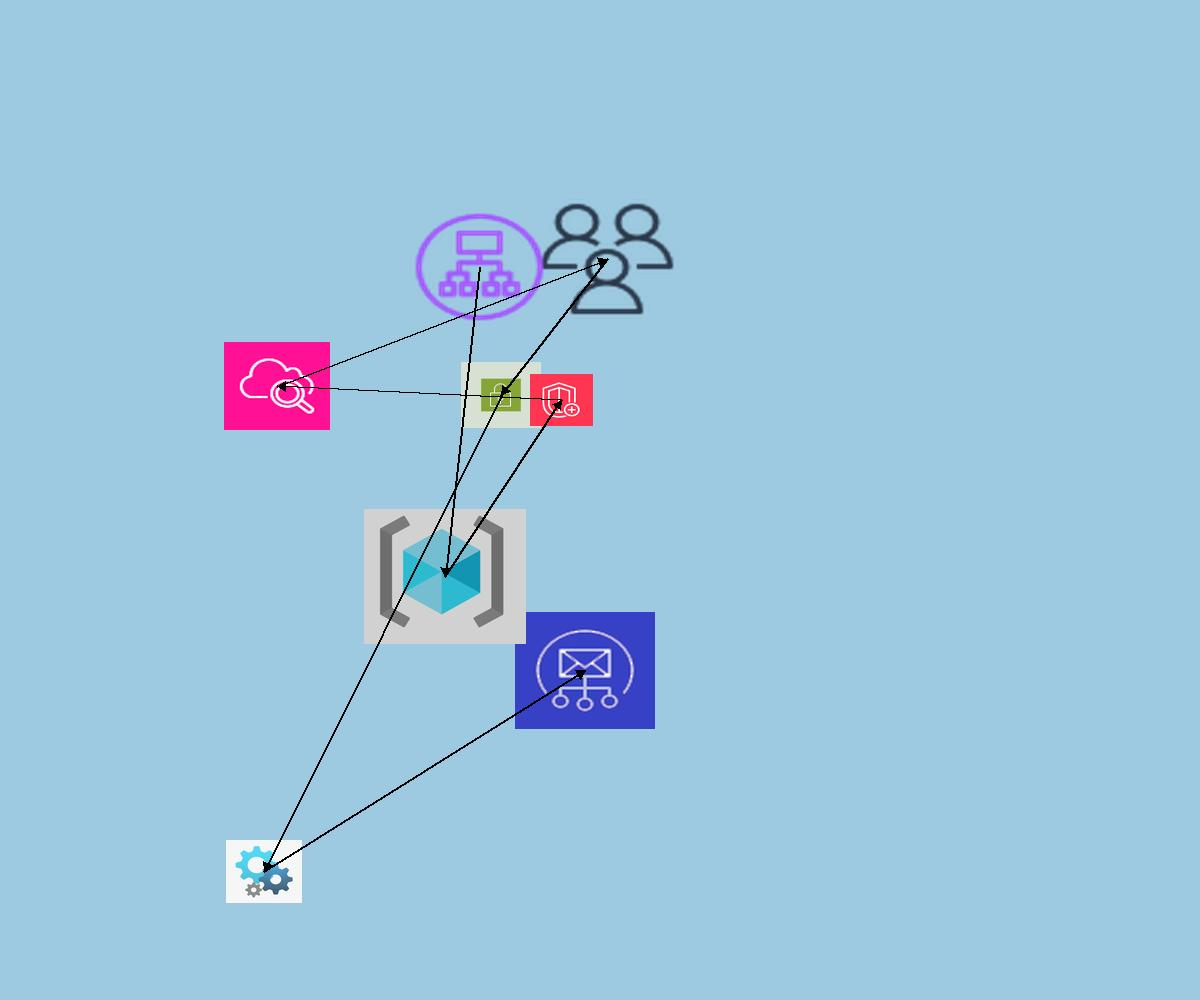AWS-CloudWatch: (224, 342, 330, 430)
AWS-Public-subnet: (461, 362, 541, 428)
AWS-Res_Elastic-Load-Balancing_Application-Load-Balancer: (410, 209, 549, 325)
AWS-Res_Users: (535, 199, 679, 319)
AWS-Shield: (530, 374, 593, 426)
AWS-Simple-Email-Service: (515, 612, 655, 729)
Azure_api: (226, 840, 302, 903)
Azure_resource_group: (364, 509, 526, 644)
